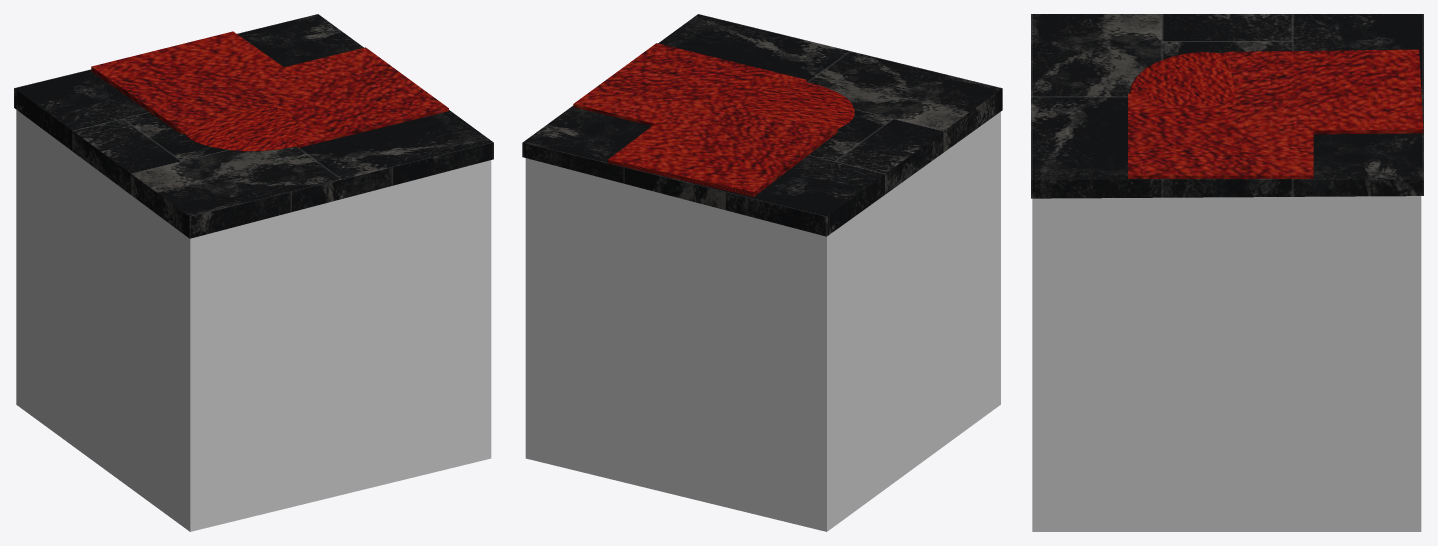
The model's file is path curve separate.glb.
The picture shows the model from 3 angles, left to right: view 1: azimuth 30°, elevation 25°; view 2: azimuth 150°, elevation 25°; view 3: azimuth 270°, elevation 25°; orthographic projection. The views are drawn at different scales.
Parts seen in each view (by area): view 1: Mesh_0; view 2: Mesh_0; view 3: Mesh_0.
Boxes of the visible parts, <box> form: Mesh_0: <box>14,14,493,531</box>; Mesh_0: <box>522,14,1002,531</box>; Mesh_0: <box>1031,14,1423,531</box>.
Bounding box in the file's own units: 2.02 × 2.04 × 2.02.
Materials: 5 (4 with a texture image).
